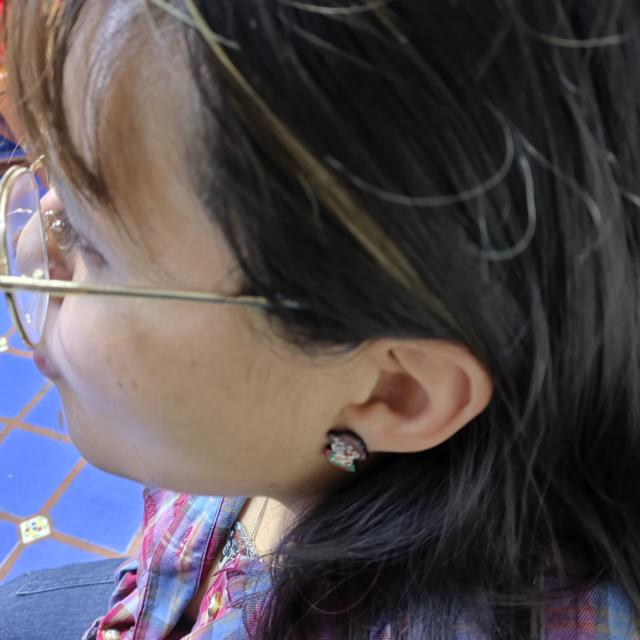ear: (332, 339, 492, 452)
